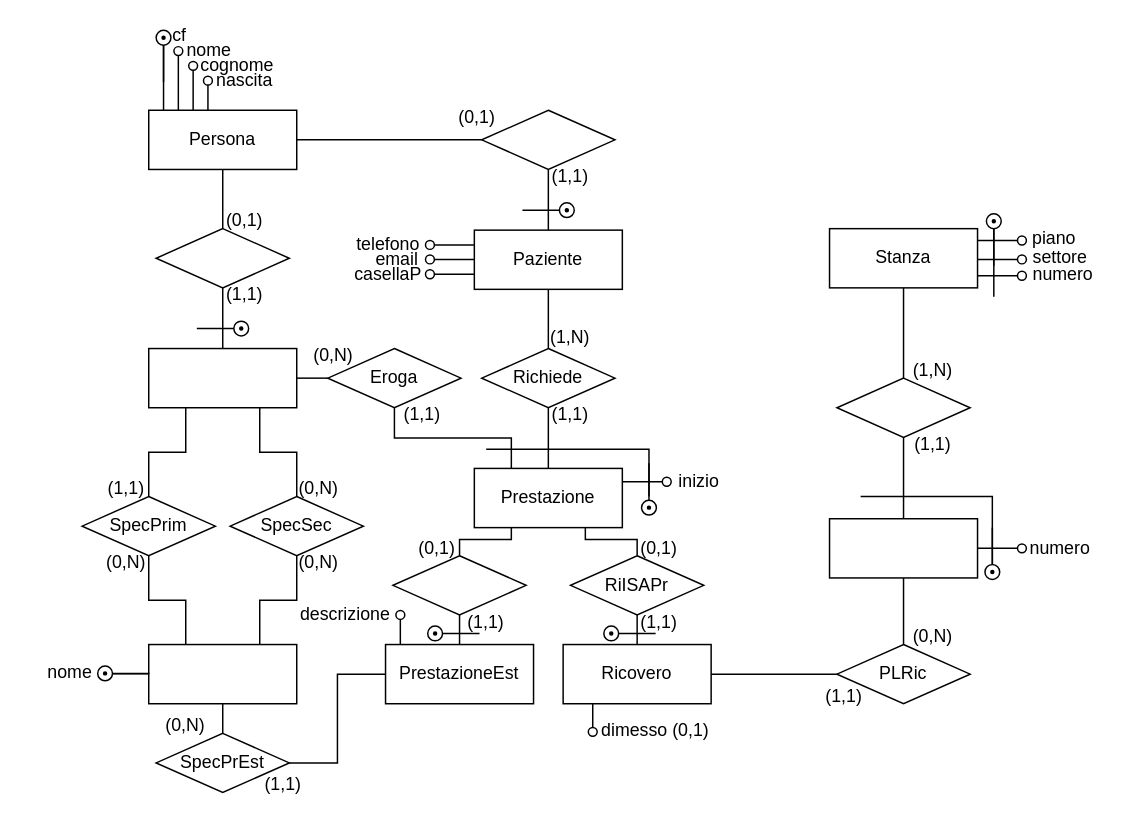
Image size: 1132x821. Some labels were removed from this diagram. Here are the shapes that lost their labels. From the top down, the centre of each, then its label:
At point 547,139: "PISAP".
At point 222,257: "MISAP".
At point 222,377: "Medico".
At point 902,407: "Localizzato".
At point 903,547: "PostoLetto".
At point 458,584: "PEISAPr".
At point 222,673: "Specializzazione".
